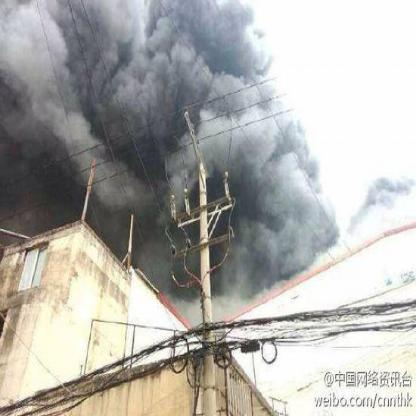smoke: (99, 5, 245, 53), (4, 25, 42, 160), (238, 132, 312, 200), (237, 204, 299, 266), (113, 52, 196, 95), (98, 188, 122, 226), (367, 176, 395, 206)
